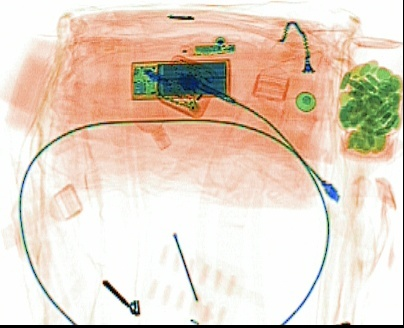powerbank: (128, 57, 232, 101)
